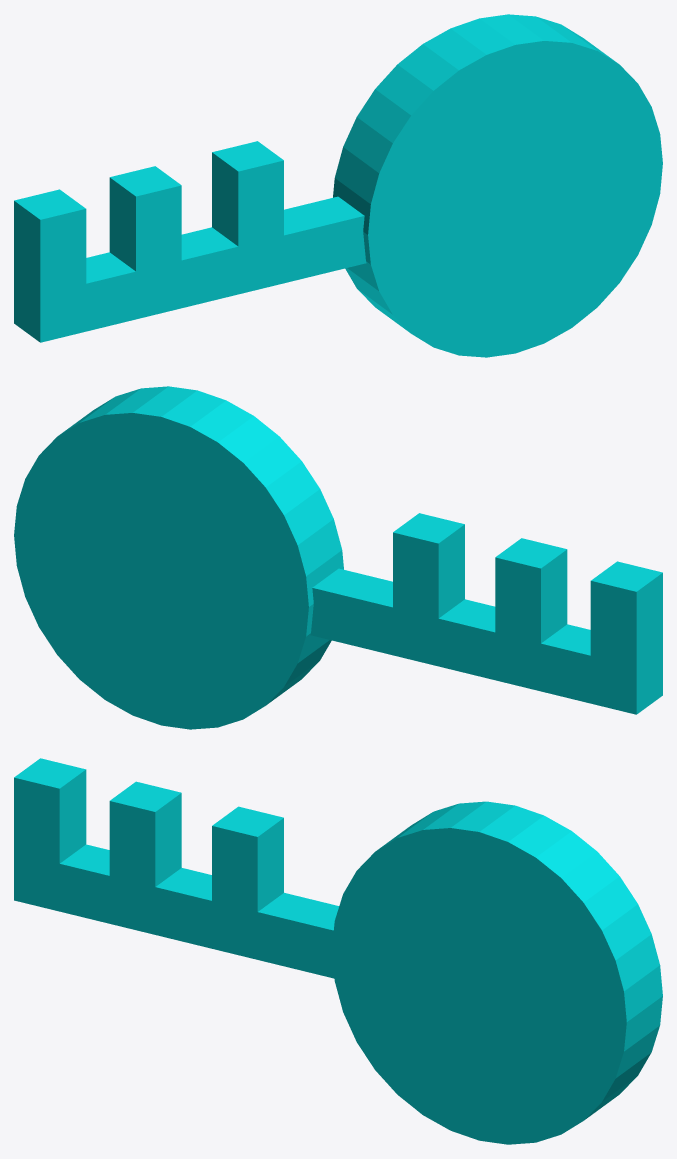
Rendered from Key_Circle_C.fbx.
3 renders of one model, top to bottom at view 1: azimuth 30°, elevation 25°; view 2: azimuth 150°, elevation 25°; view 3: azimuth 330°, elevation 25°, orthographic.
Visible parts, largest first — view 1: Cylinder, Cube.003, Cube, Cube.001, Cube.002; view 2: Cylinder, Cube.003, Cube, Cube.001, Cube.002; view 3: Cylinder, Cube.003, Cube.001, Cube.002, Cube.
Part boxes in pixels (x1,y1,x2,y2): Cylinder: (333,14,662,357); Cube.003: (58,196,366,338); Cube: (14,189,86,342); Cube.001: (109,166,181,319); Cube.002: (212,141,283,294); Cylinder: (14,386,343,729); Cube.003: (310,568,590,703); Cube: (590,561,662,714); Cube.001: (495,538,567,691); Cube.002: (393,513,464,618); Cylinder: (332,801,662,1144); Cube.003: (32,844,339,978); Cube.001: (109,781,181,934); Cube.002: (212,806,283,959); Cube: (14,758,86,910).
Bounding box in the file's own units: 250 × 119 × 25.38.
